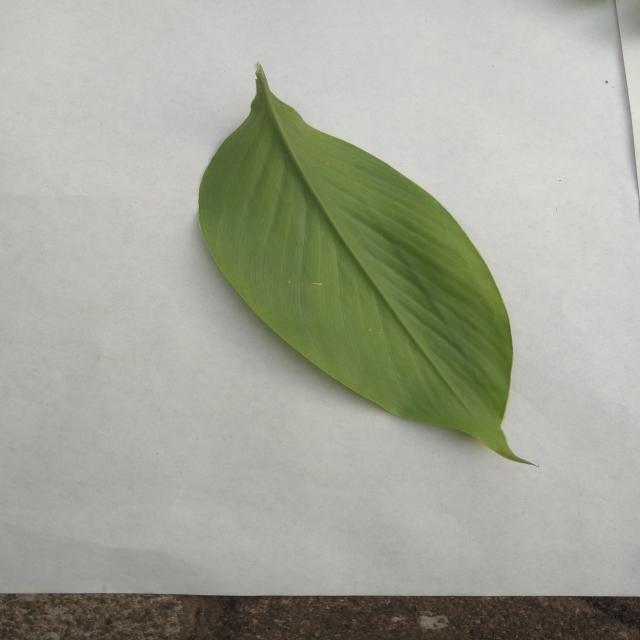turmeric: (200, 66, 529, 464)
